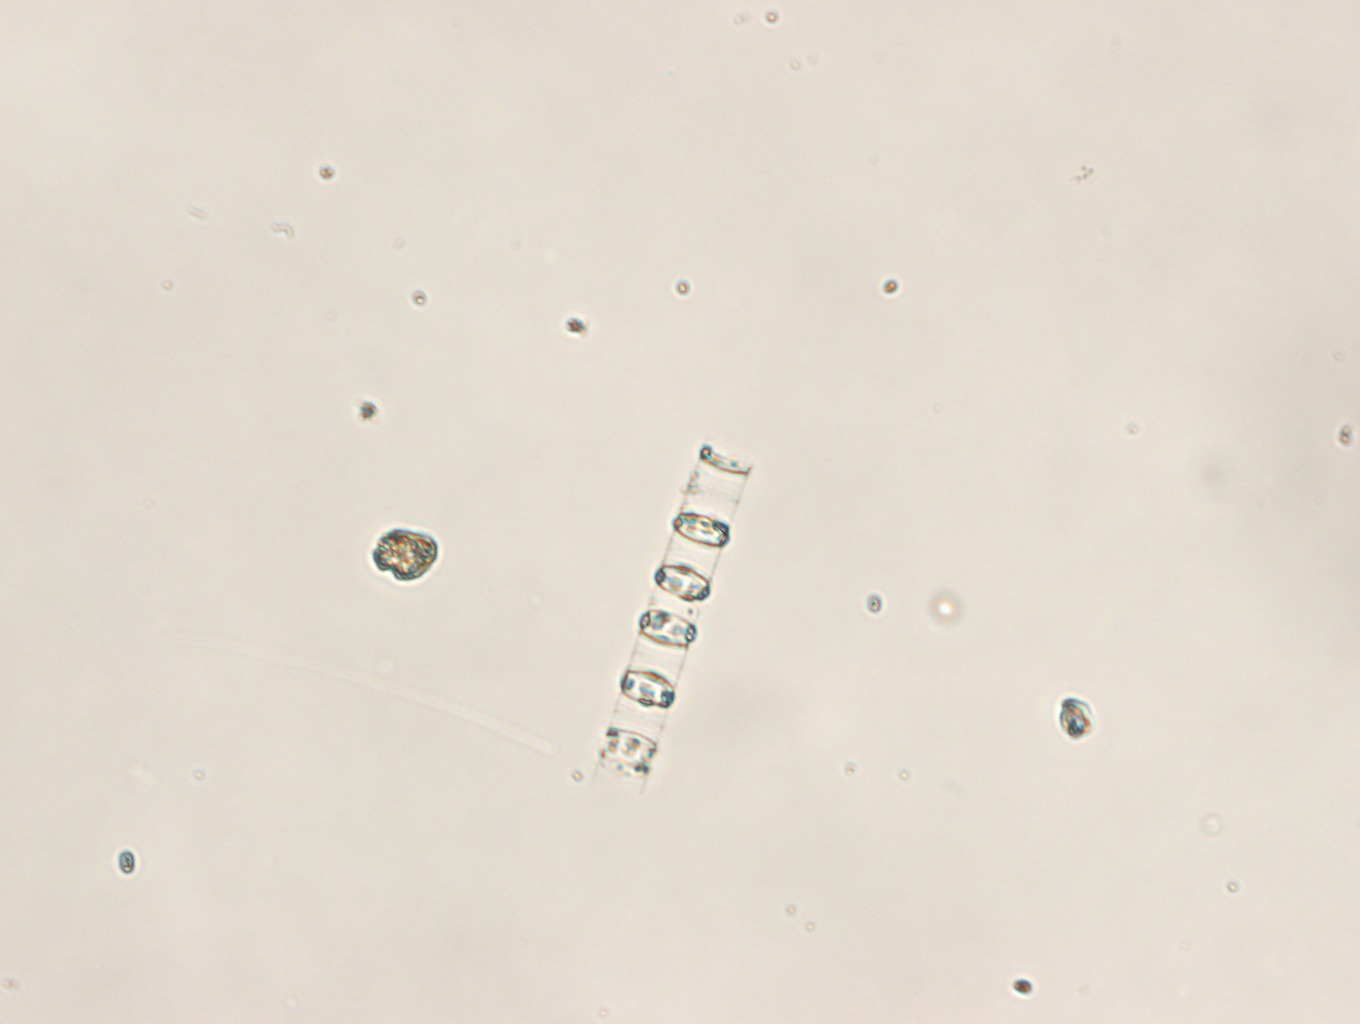skeletonema: (603, 441, 750, 794)
